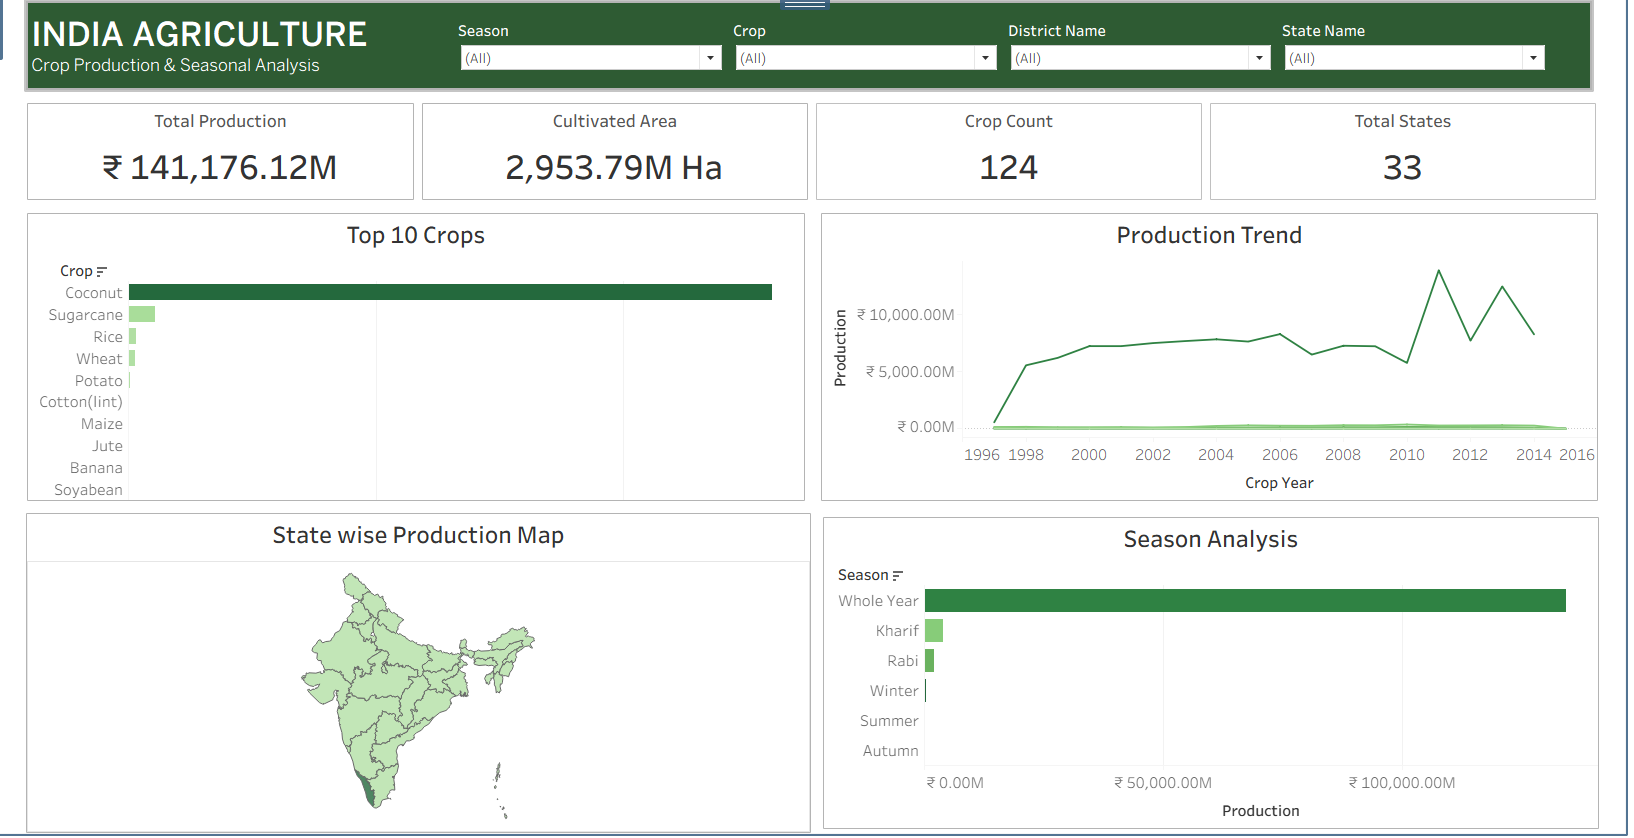

Layout of this report page (visuals, bound fields, positions):
{"tool":"tableau","page":{"name":"India Agriculture Dashboard ","canvas":[1000,1000],"units":"permille","ordinal":0},"visuals":[{"type":"text","box":[29.4,11.8,945.3,104.6]},{"type":"filter","title":"Production Trend","param":"[federated.1jx23pj0xblct018v3xr107popyy].[none:Season:nk]","box":[287.9,29.4,166,78.7]},{"type":"filter","title":"Production Trend","param":"[federated.1jx23pj0xblct018v3xr107popyy].[none:Crop:nk]","box":[453.8,29.4,166,78.7]},{"type":"filter","title":"Production Trend","param":"[federated.1jx23pj0xblct018v3xr107popyy].[none:District_Name:nk]","box":[619.8,29.4,165.4,78.7]},{"type":"filter","title":"Production Trend","param":"[federated.1jx23pj0xblct018v3xr107popyy].[none:State_Name:nk]","box":[785.1,29.4,165.4,78.7]},{"type":"worksheet","title":"Total Production","mark":"Automatic","box":[27.8,126.9,238.4,123.4]},{"type":"worksheet","title":"Cultivated Area","mark":"Automatic","box":[266.1,126.9,237.8,123.4]},{"type":"worksheet","title":"Crop Count","mark":"Automatic","box":[503.9,126.9,237.8,123.4]},{"type":"worksheet","title":"Total States","mark":"Automatic","box":[741.7,126.9,237.8,123.4]},{"type":"worksheet","title":"Top 10 Crops","mark":"Bar","rows":["Crop"],"cols":["Production"],"box":[25.4,251.5,479.2,357.2]},{"type":"worksheet","title":"Production Trend","mark":"Line","rows":["Production"],"cols":["Crop_Year"],"box":[504.5,251.5,478.6,357.2]},{"type":"worksheet","title":"State wise Production Map","mark":"Multipolygon","box":[27.2,608.7,478.6,385.4]},{"type":"worksheet","title":"Season Analysis","mark":"Automatic","rows":["Season"],"cols":["Production"],"box":[505.7,608.7,478,385.4]}]}

Visuals, with their boxes on the dashboard's canvas, which has no fixed pixel size, in thousandths of its width and height (x1, y1, x2, y2). These are canvas units, not pixel positions in the 1634x838 screenshot, which may show the page scaled, cropped or inside an application window:
text: crop(29, 12, 975, 116)
"Production Trend" filter: crop(288, 29, 454, 108)
"Production Trend" filter: crop(454, 29, 620, 108)
"Production Trend" filter: crop(620, 29, 785, 108)
"Production Trend" filter: crop(785, 29, 950, 108)
"Total Production" worksheet: crop(28, 127, 266, 250)
"Cultivated Area" worksheet: crop(266, 127, 504, 250)
"Crop Count" worksheet: crop(504, 127, 742, 250)
"Total States" worksheet: crop(742, 127, 980, 250)
"Top 10 Crops" worksheet (Bar marks): crop(25, 252, 505, 609)
"Production Trend" worksheet (Line marks): crop(504, 252, 983, 609)
"State wise Production Map" worksheet (Multipolygon marks): crop(27, 609, 506, 994)
"Season Analysis" worksheet: crop(506, 609, 984, 994)
